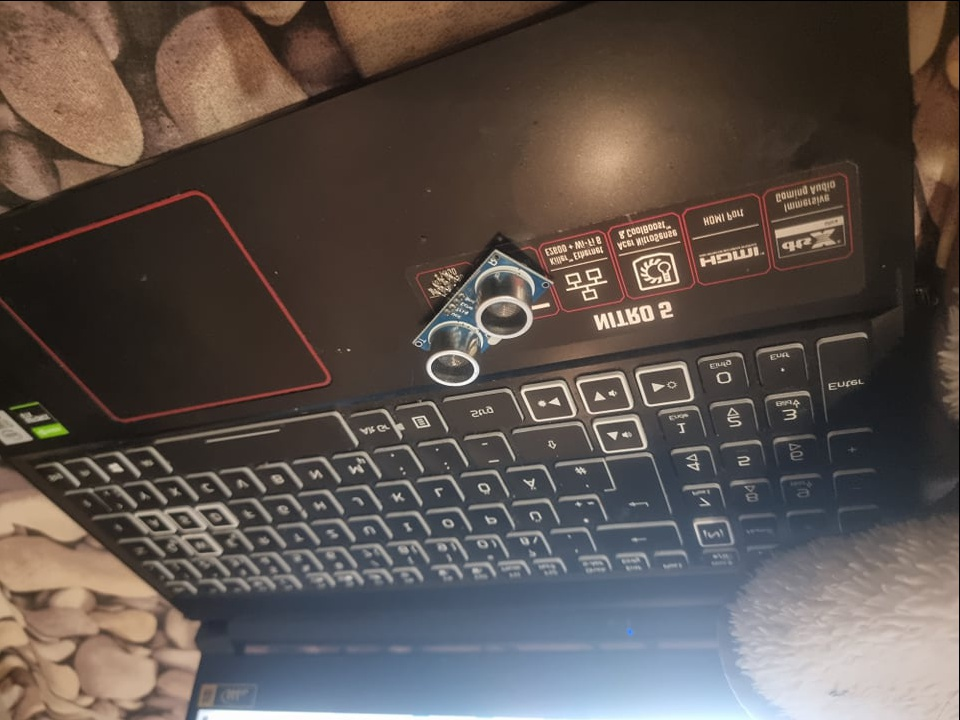SENSOR: (412, 246, 554, 388)
